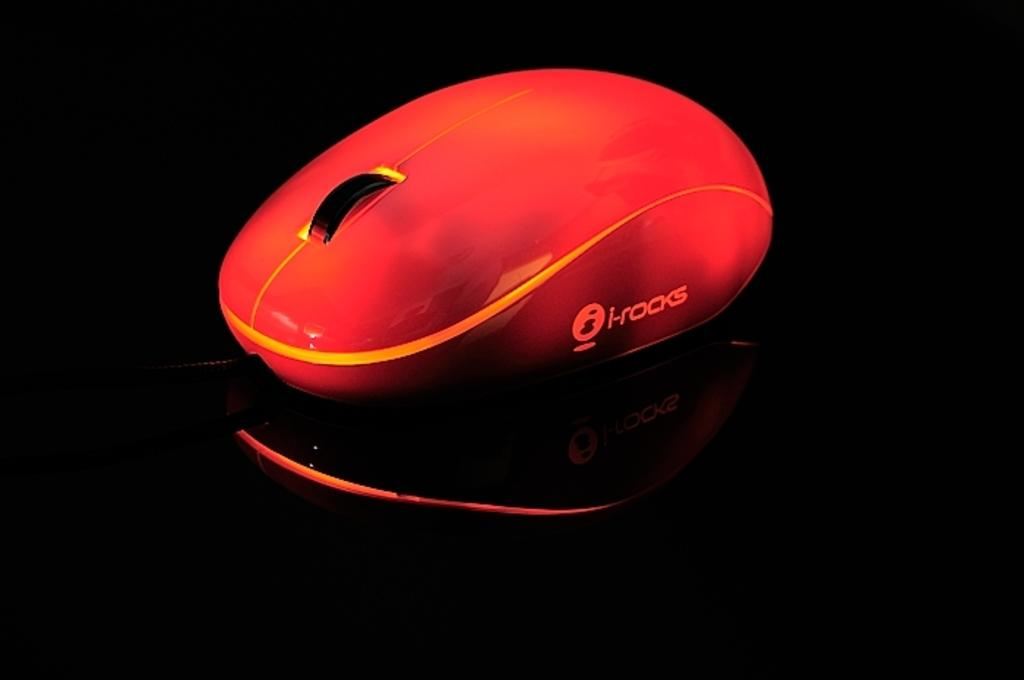Computer-mouse: (215, 60, 774, 402)
